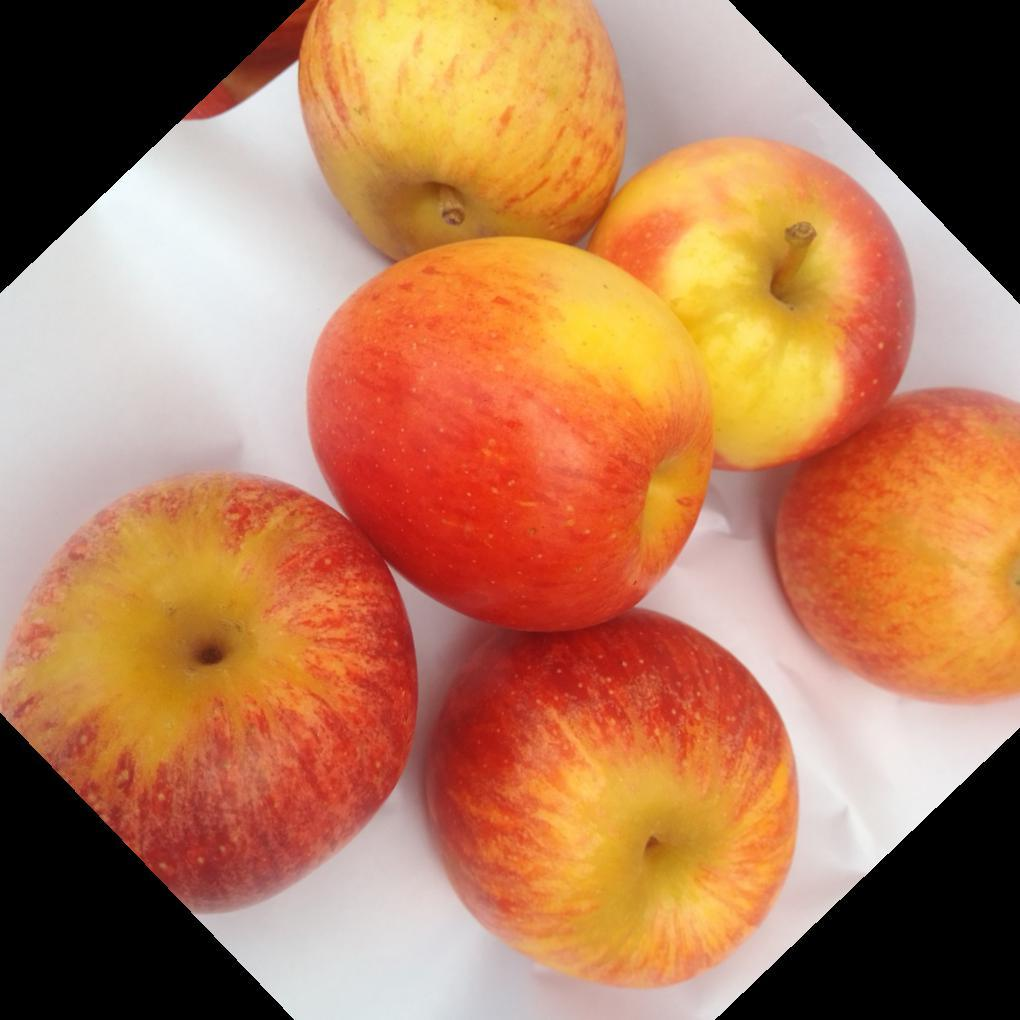FreshGuava: (0, 0, 1020, 993)
